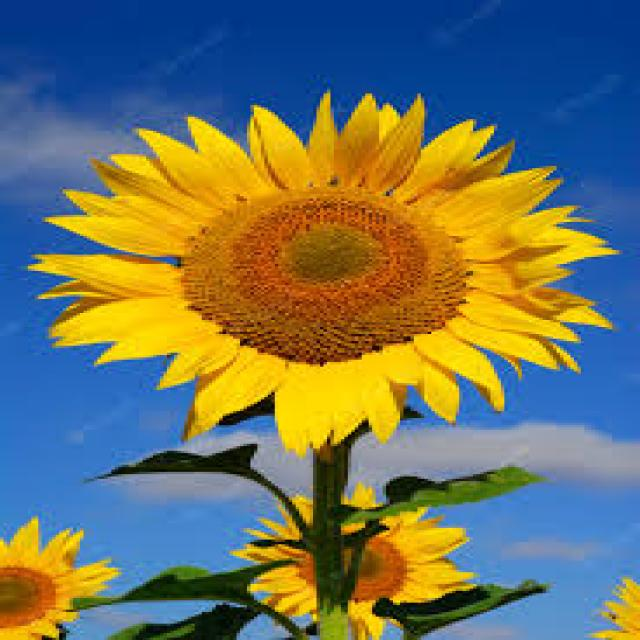sunflower: (22, 74, 640, 461), (225, 473, 493, 640), (0, 504, 117, 640), (584, 571, 640, 640)
